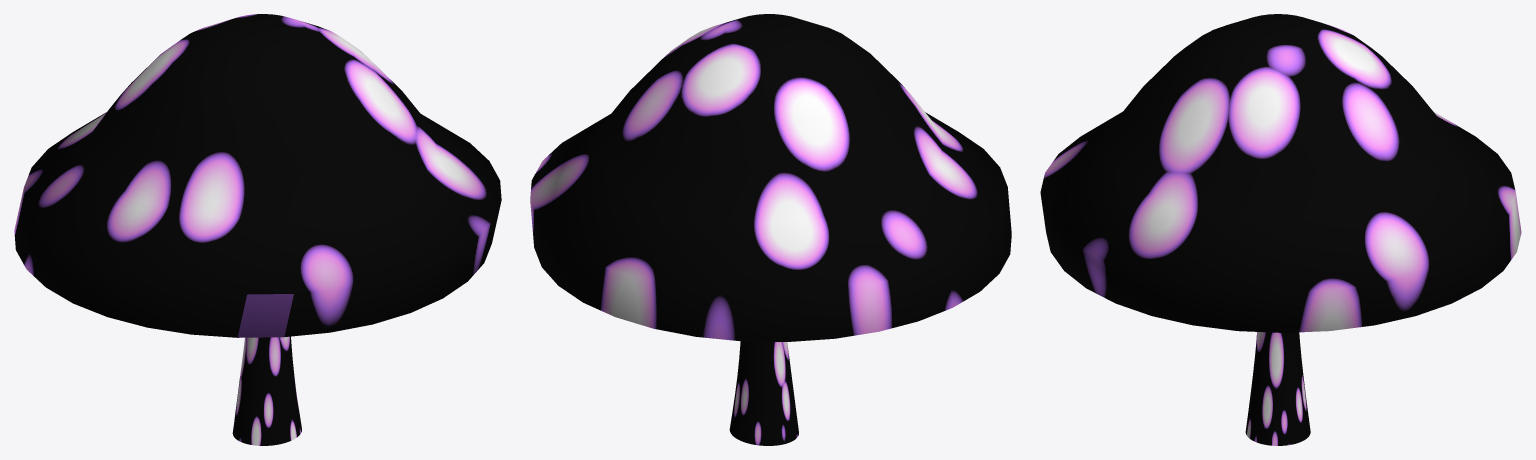
The model's file is GlowMushroom1.fbx.
3 views of the same model, side by side, from view 1: azimuth 30°, elevation 25°; view 2: azimuth 150°, elevation 25°; view 3: azimuth 270°, elevation 25° (orthographic).
Visible parts, largest first — view 1: Circle; view 2: Circle; view 3: Circle.
Part boxes in pixels (box(x1,y1,x2,y2)): Circle: box(14, 14, 501, 445); Circle: box(530, 14, 1011, 445); Circle: box(1040, 14, 1521, 445).
Size of the model in its own units: 1291 by 1173 by 1285.
1 material, 1 textured.
